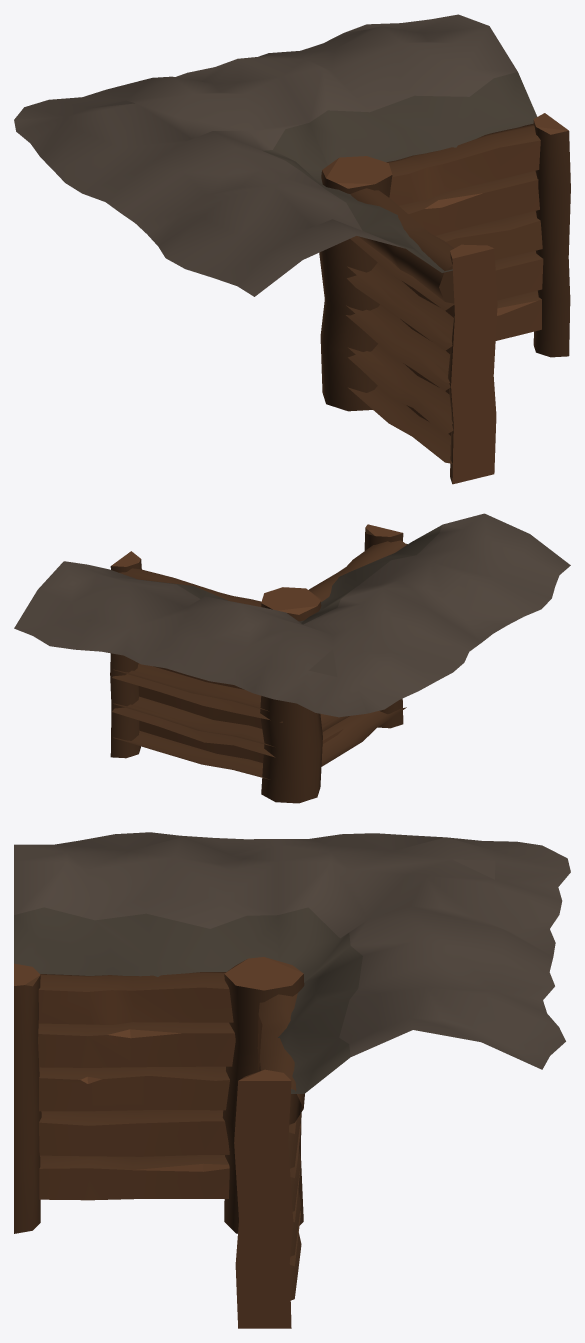
Rendered from 20C_trench_200_ConnerIn.fbx.
3 renders of one model, top to bottom at view 1: azimuth 30°, elevation 25°; view 2: azimuth 150°, elevation 25°; view 3: azimuth 270°, elevation 25°, orthographic. The views are drawn at different scales.
Visible parts, largest first — view 1: 20C_trench_200_ConnerIn; view 2: 20C_trench_200_ConnerIn; view 3: 20C_trench_200_ConnerIn.
Part boxes in pixels (x1=…): 20C_trench_200_ConnerIn: x1=14, y1=14, x2=570, y2=484; 20C_trench_200_ConnerIn: x1=14, y1=513, x2=570, y2=803; 20C_trench_200_ConnerIn: x1=14, y1=832, x2=570, y2=1328.
Bounding box in the file's own units: 42.59 × 24.96 × 42.17.
1 material, 1 textured.
